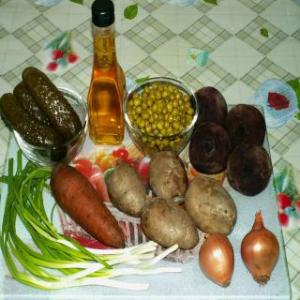beet: (226, 137, 274, 200), (224, 100, 268, 158), (188, 120, 231, 178), (190, 84, 226, 136)
carrot: (47, 162, 129, 254)
cucumber: (21, 64, 83, 144), (0, 89, 64, 161)
onion: (240, 210, 282, 290), (198, 226, 238, 292)
potato: (139, 195, 201, 253), (186, 172, 240, 238), (105, 162, 149, 218), (144, 150, 189, 204)
